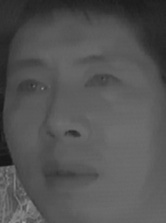eye: (83, 68, 126, 96), (14, 77, 53, 99)
mouth: (43, 155, 101, 197)
